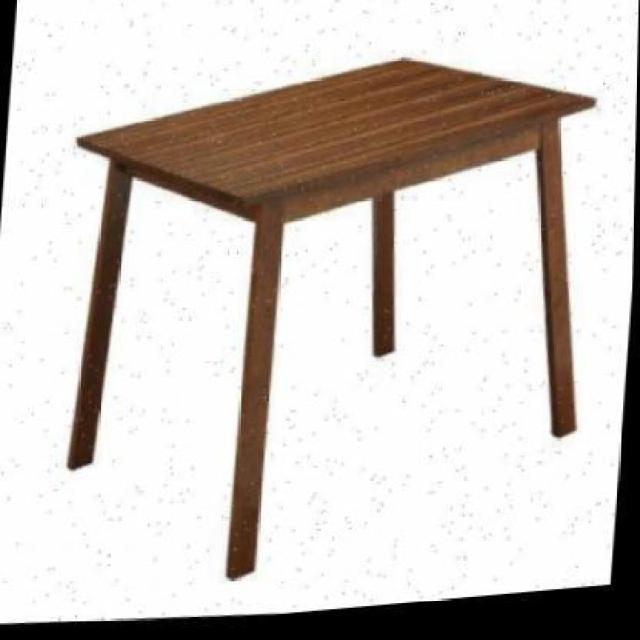tables: (65, 56, 597, 578)
